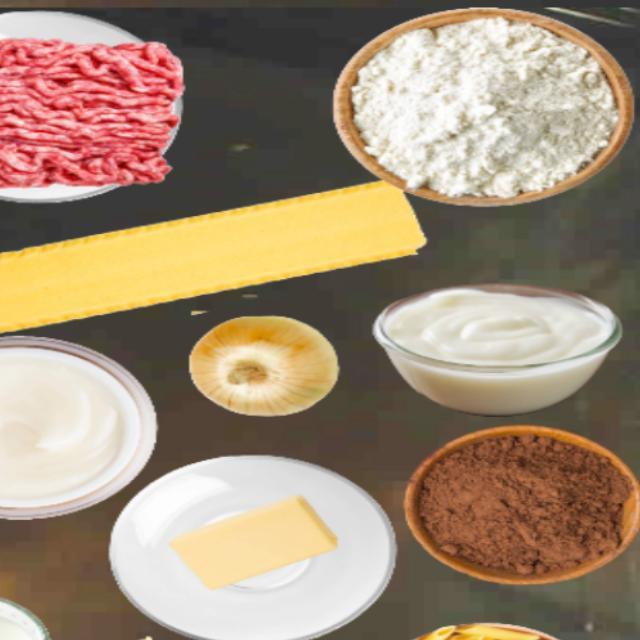Cocoa: (416, 431, 630, 577)
Flour: (349, 14, 619, 199)
